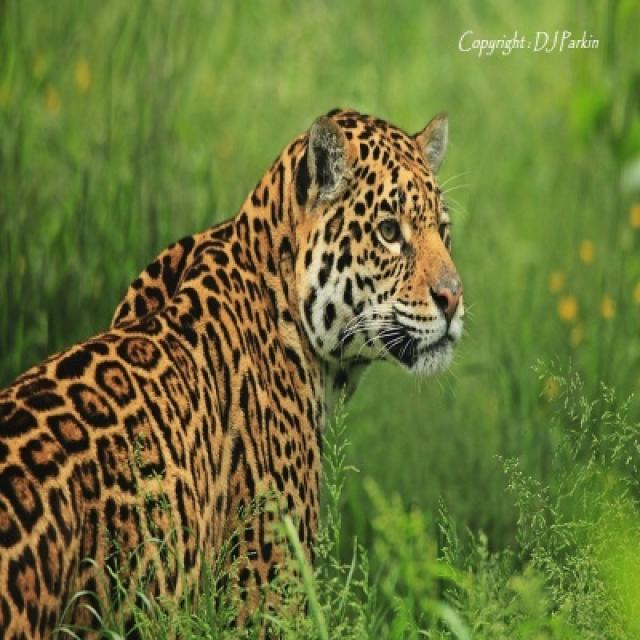Jaguar: (0, 109, 466, 638)
